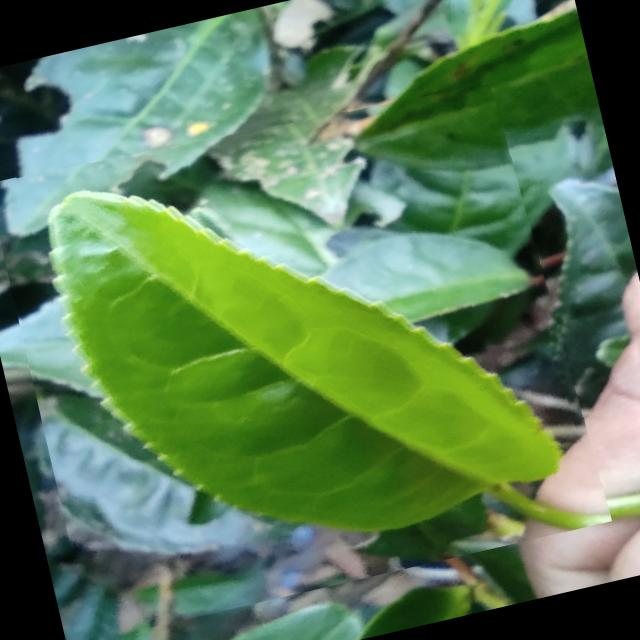Category C(4-7 days): (0, 61, 612, 639)
